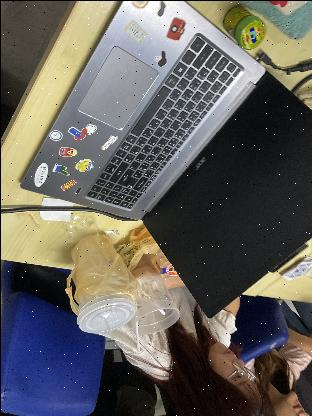Others: (64, 231, 138, 309), (128, 254, 180, 342), (116, 223, 180, 275), (76, 298, 136, 342), (38, 194, 74, 224), (62, 212, 96, 234), (142, 288, 166, 316)
